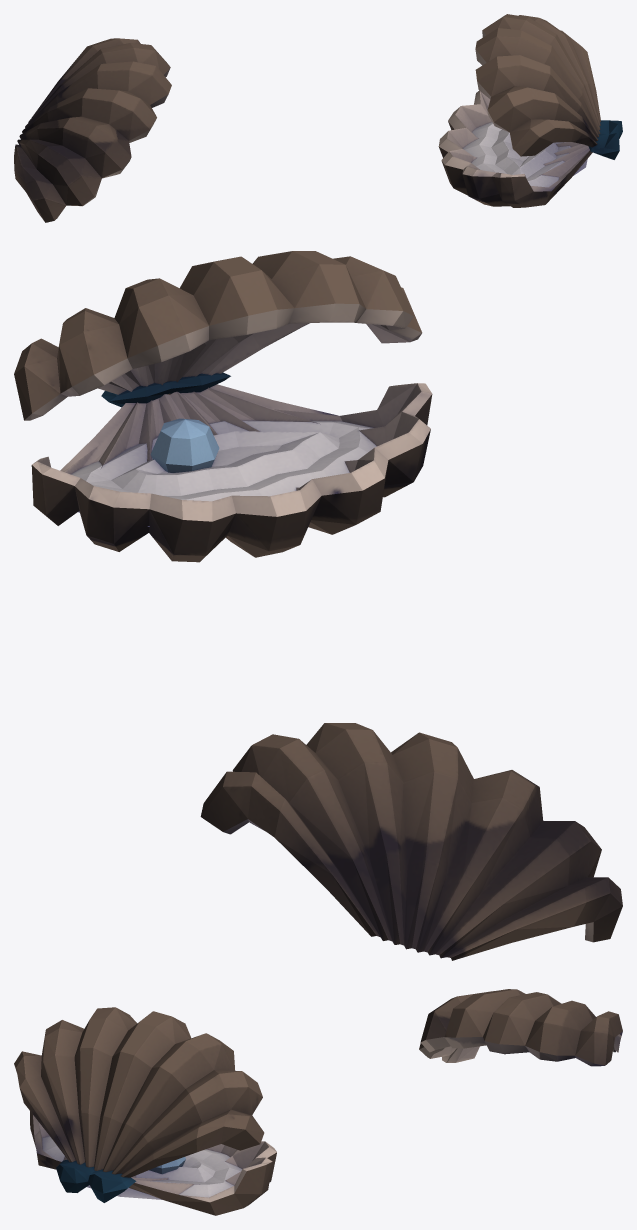
The model's file is Clam_01.FBX.
3 views of the same model, one above another, from view 1: azimuth 30°, elevation 25°; view 2: azimuth 150°, elevation 25°; view 3: azimuth 270°, elevation 25° (orthographic). The views are drawn at different scales.
Visible parts, largest first — view 1: Clam_01; view 2: Clam_01; view 3: Clam_01.
Boxes of the visible parts, x1,y1,x2,y2 form: Clam_01: [14, 14, 622, 222]; Clam_01: [14, 251, 622, 960]; Clam_01: [14, 989, 622, 1215].
Bounding box in the file's own units: 20.92 × 9.11 × 21.4.
